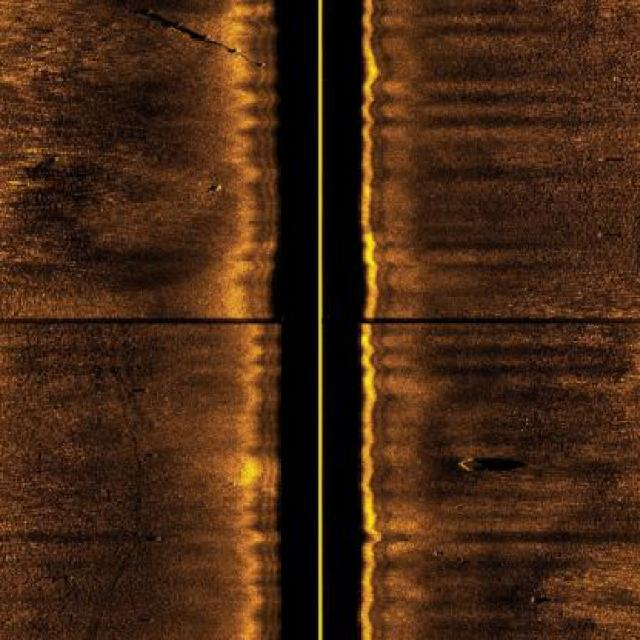other: (156, 10, 270, 72), (451, 454, 515, 477)
